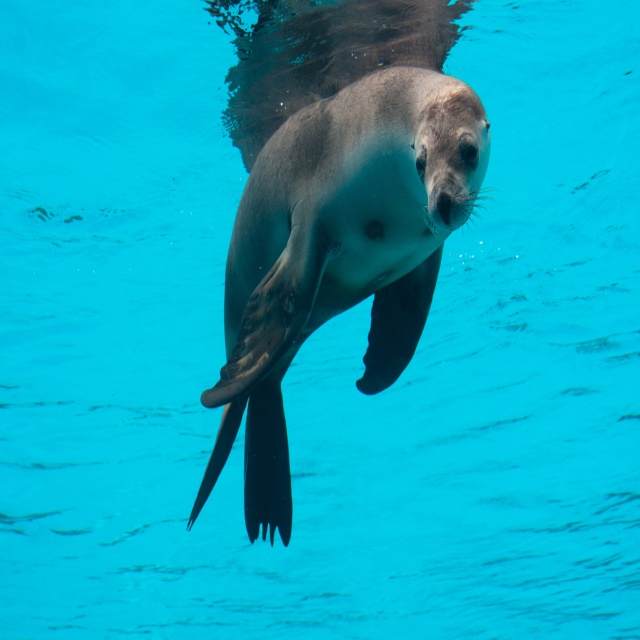Sea lion: (185, 68, 497, 550)
